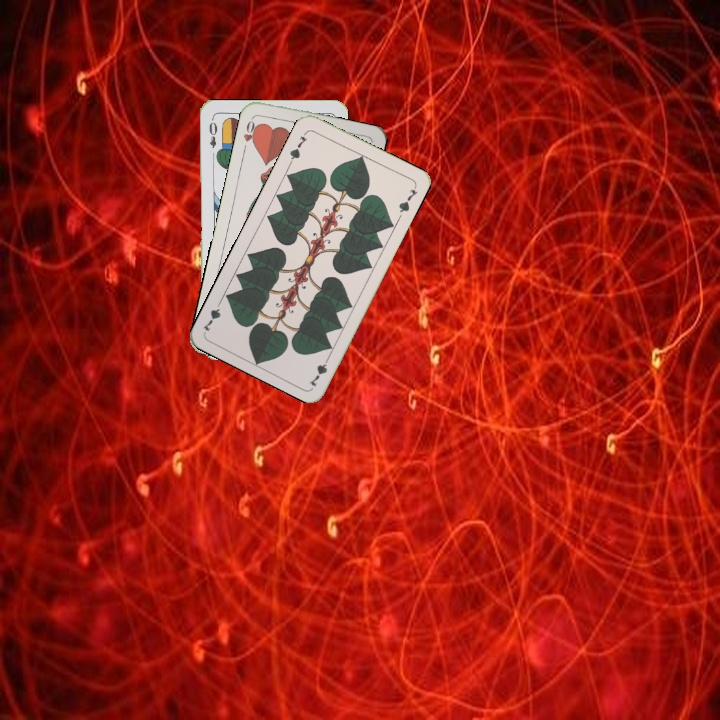EO: (205, 114, 220, 150)
G7: (305, 351, 333, 389), (285, 128, 310, 166)
HO: (239, 113, 261, 153)
